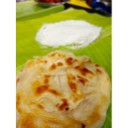parota: (20, 53, 109, 128)
